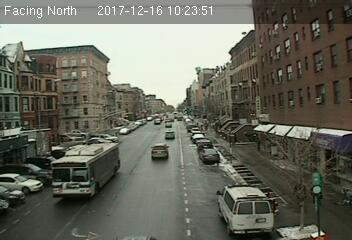bus: (49, 141, 121, 201)
car: (199, 147, 220, 162), (150, 144, 170, 158), (164, 129, 176, 139)
police: (215, 179, 275, 235)
